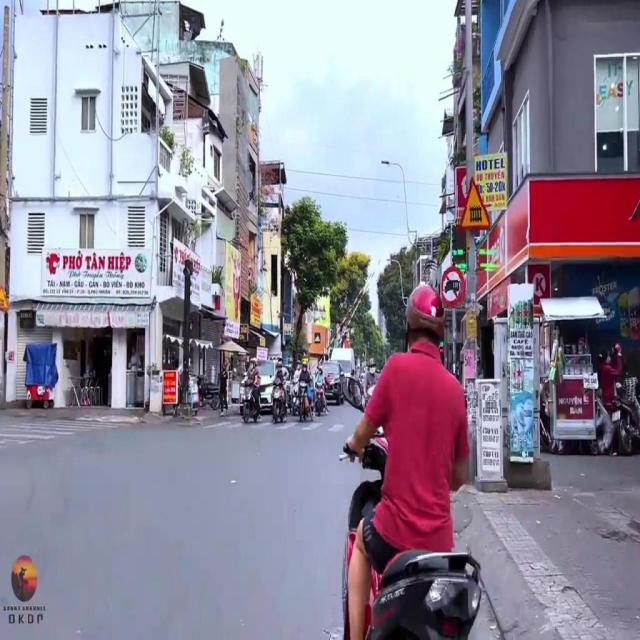106-cam-oto-tai: (441, 264, 467, 308)
